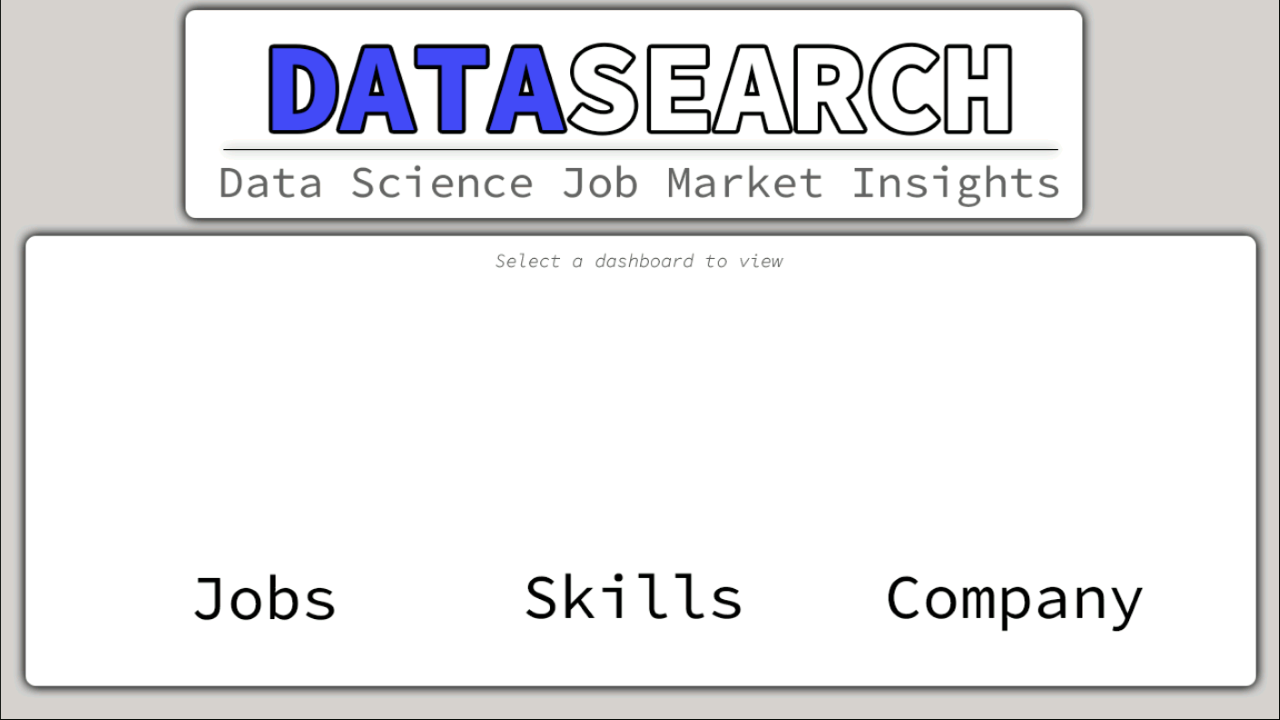

The dashboard page shown, as its layout file describes it:
{"tool":"powerbi","page":{"name":"Home","canvas":[1280,720],"ordinal":0},"visuals":[{"type":"image","box":[500.7,279.7,279.7,279.7],"z":0},{"type":"image","box":[108.3,279.7,300,280],"z":1},{"type":"image","box":[865,279.7,300,279.7],"z":2}]}

Visuals, with their boxes in screenshot pixels (x1, y1, x2, y2), scaled from the page's 1280x720 canvas onto the 1280x720 screenshot:
image: pyautogui.locateOnScreen(501, 280, 780, 559)
image: pyautogui.locateOnScreen(108, 280, 408, 560)
image: pyautogui.locateOnScreen(865, 280, 1165, 559)
